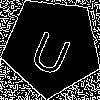U: (27, 21, 78, 78)
